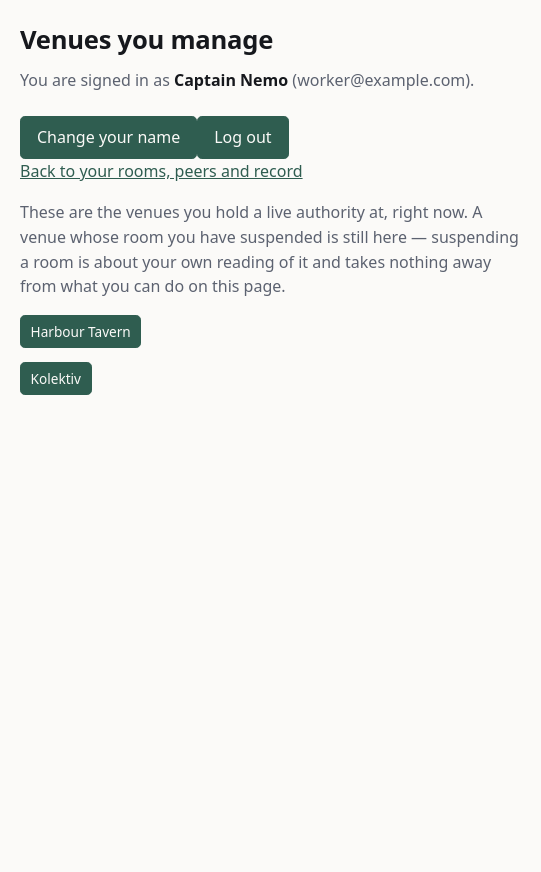
Test: a shift's roster › shows the opened shift's roster and not the one before it
Click the button "Harbour Tavern" at (81, 332), box [20, 315, 141, 348]
(page scrolled)
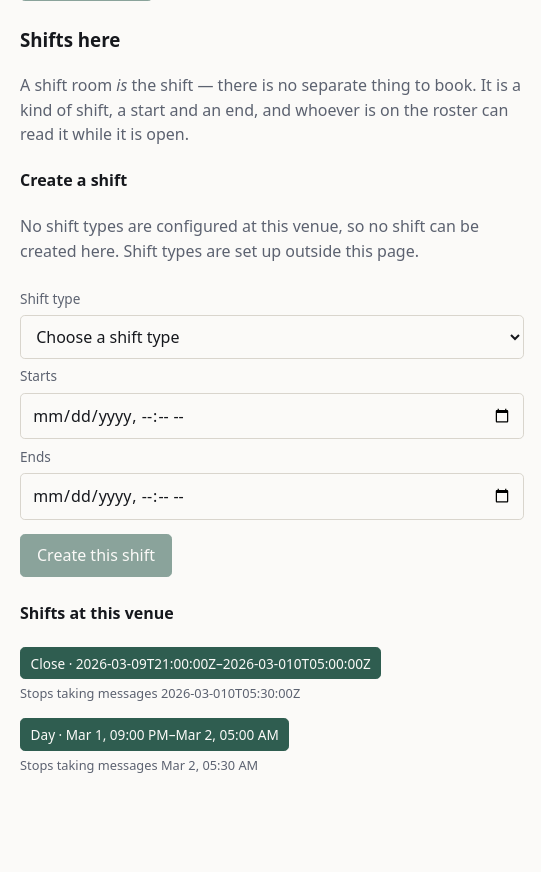
Click the button "Close · 2026-03-09T21:00:00Z–2026-03-010T05:00:00Z" at (201, 663), box [20, 647, 381, 680]
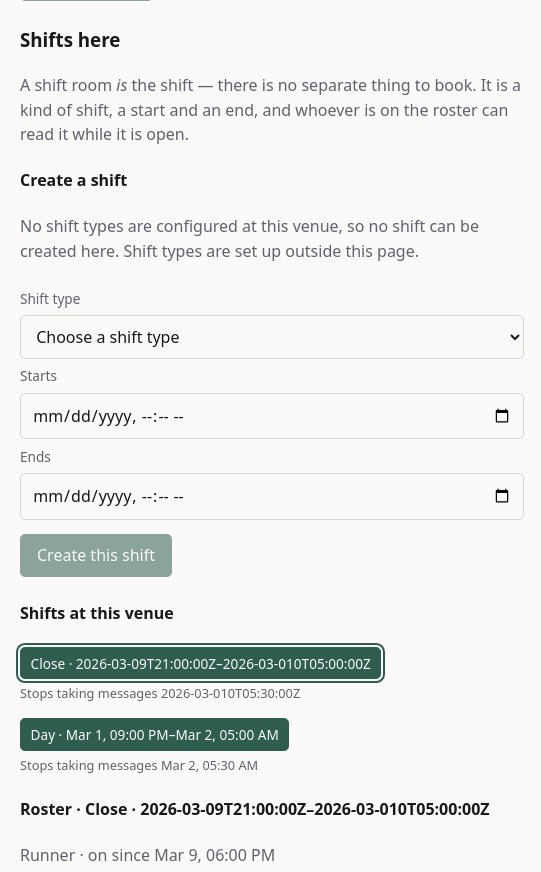
Now the list named "on this shift" shows "Runner", box [20, 844, 275, 866]
Click the button "Day · Mar 1, 09:00 PM–Mar 2, 05:00 AM" at (155, 735), box [20, 718, 289, 751]
(page scrolled)
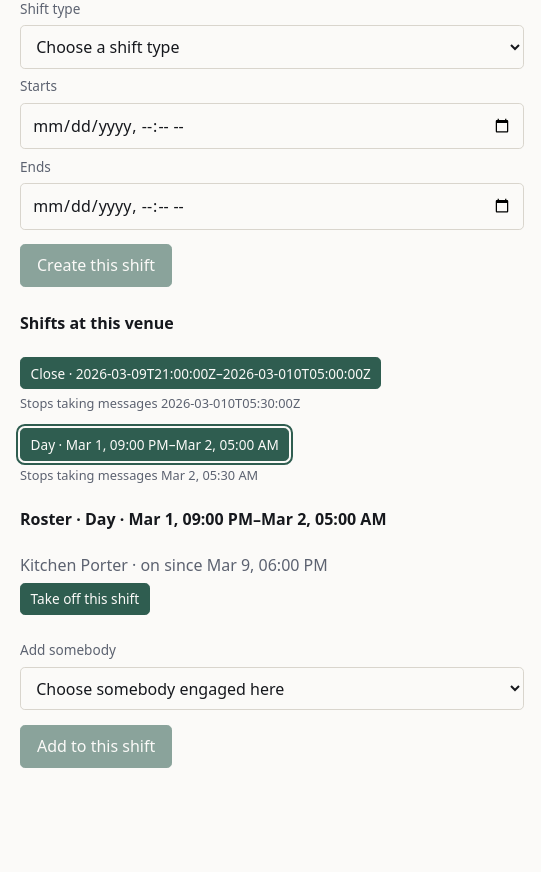
Expected: the list named "on this shift" does not show "runner", [20, 554, 328, 615]
Now the list named "on this shift" shows "Kitchen Porter", box [20, 554, 328, 576]
